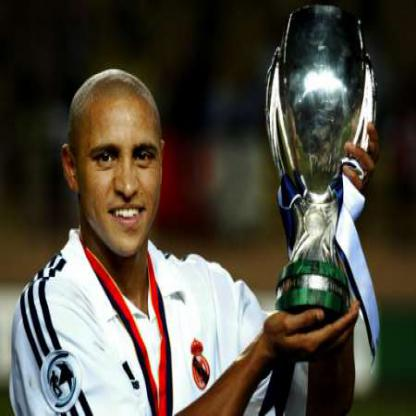face: (76, 72, 168, 258)
